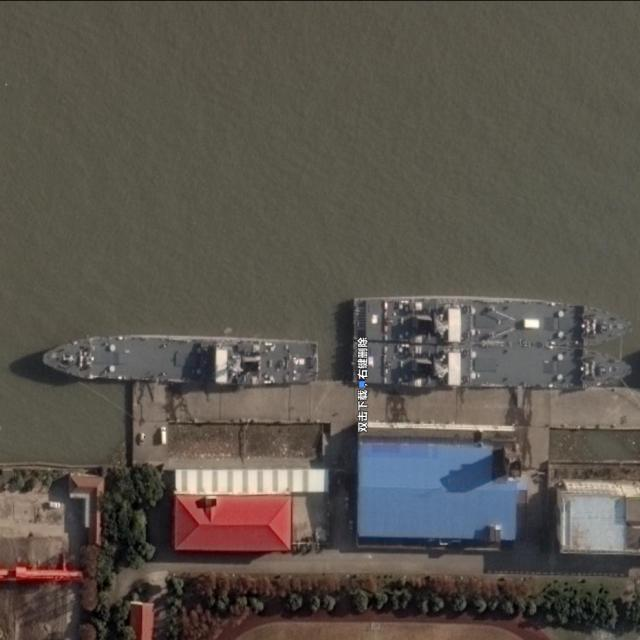Landing: (41, 334, 317, 385), (356, 299, 635, 348), (356, 341, 631, 390)
